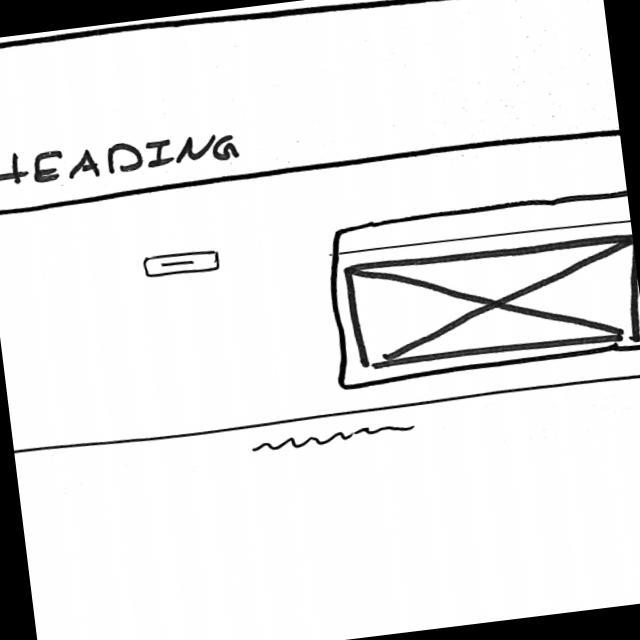container: (1, 1, 621, 216)
icon-button: (140, 247, 222, 284)
image: (343, 229, 640, 372)
label: (1, 123, 244, 193)
text: (249, 421, 419, 458)
